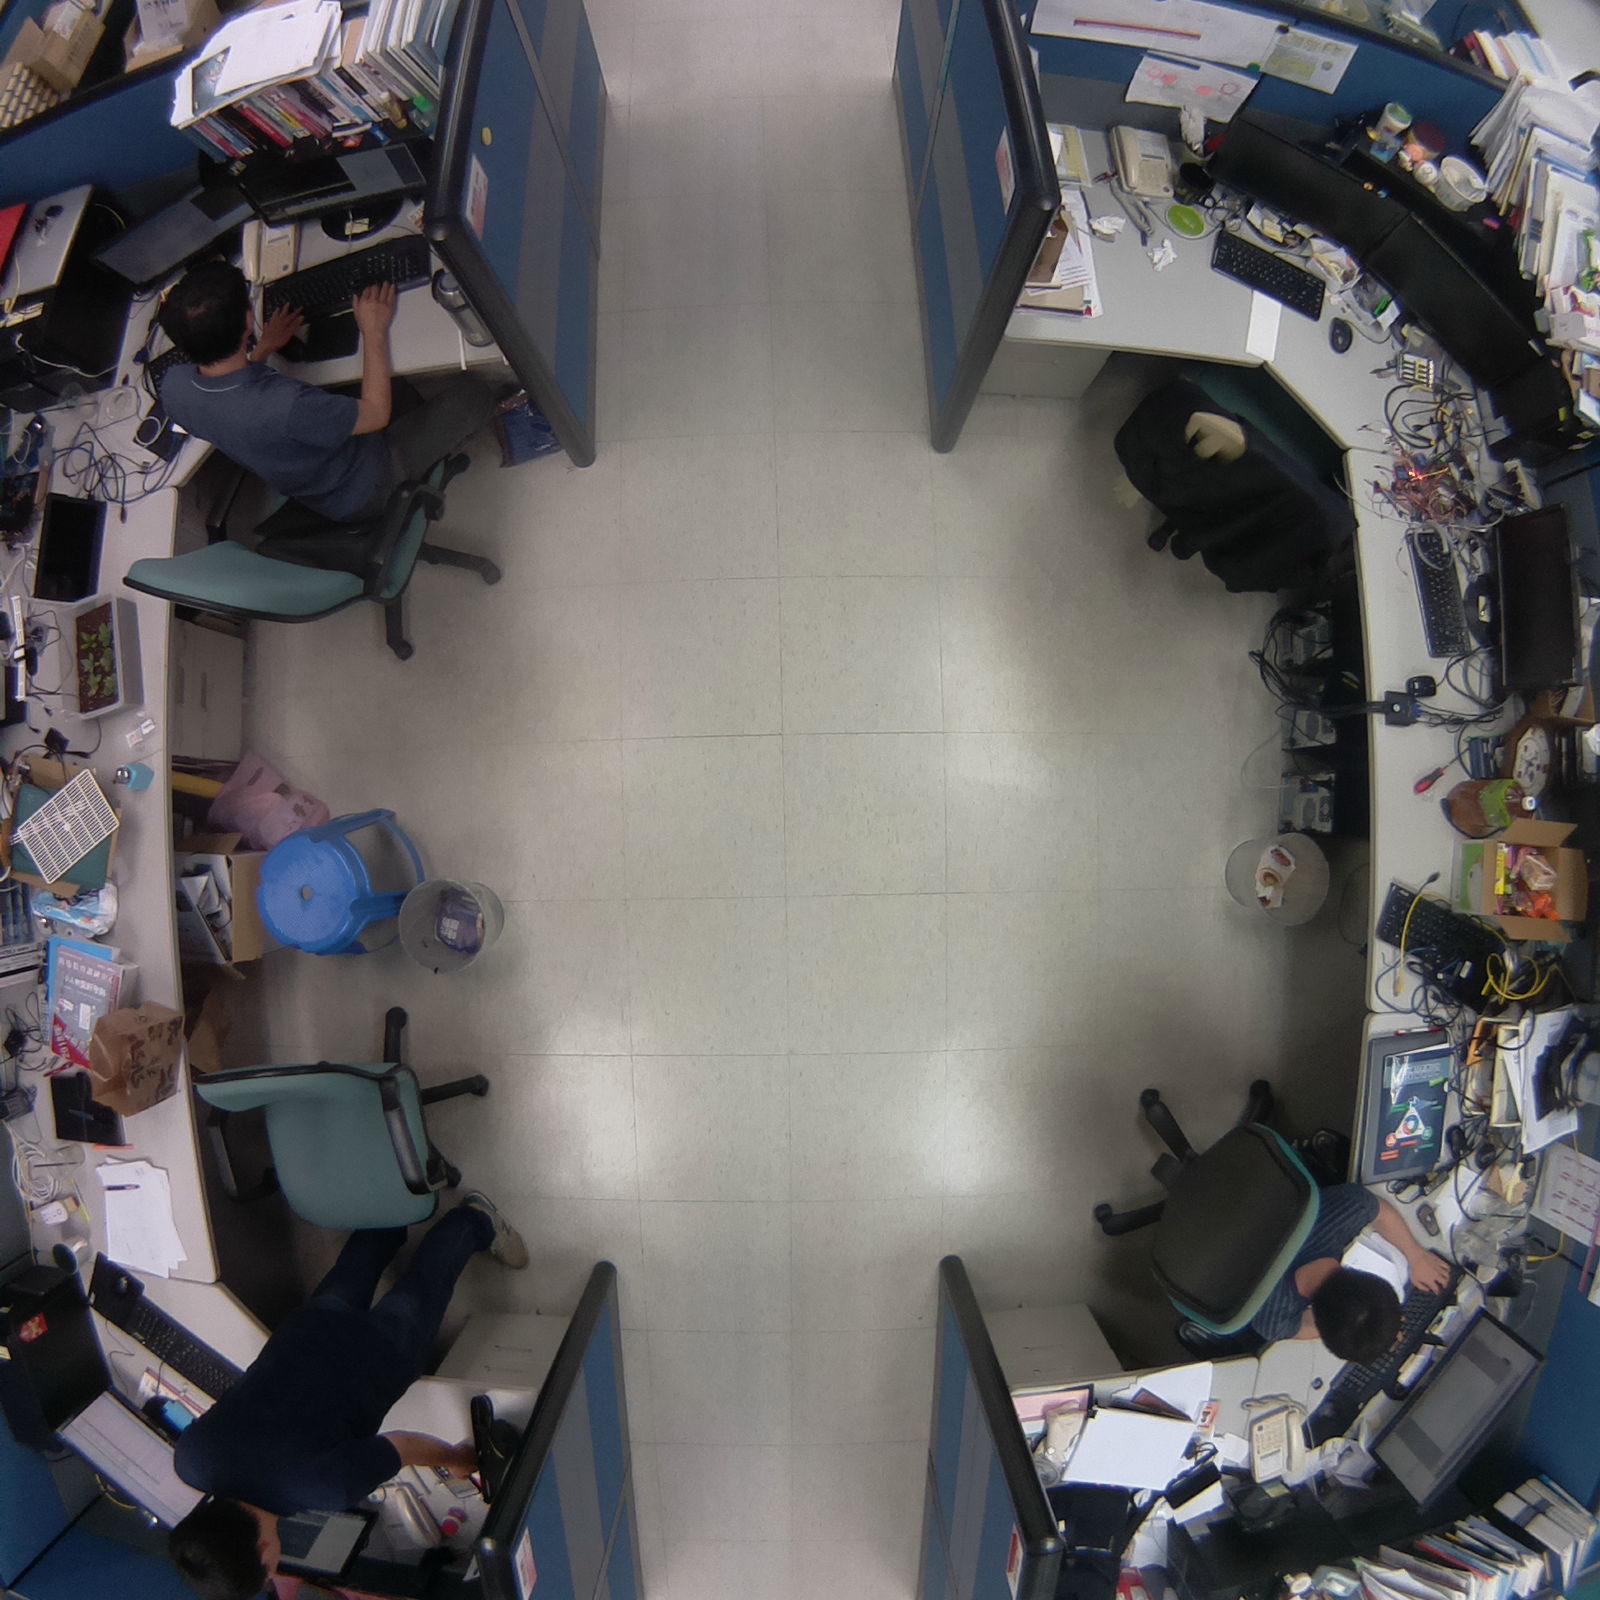chair: (178, 993, 522, 1245), (1094, 317, 1368, 609)
head: (166, 1497, 287, 1600), (155, 259, 266, 367), (1301, 1265, 1412, 1370)
sitting: (112, 266, 519, 678), (1083, 1060, 1456, 1381)
standing: (159, 1180, 536, 1600)
